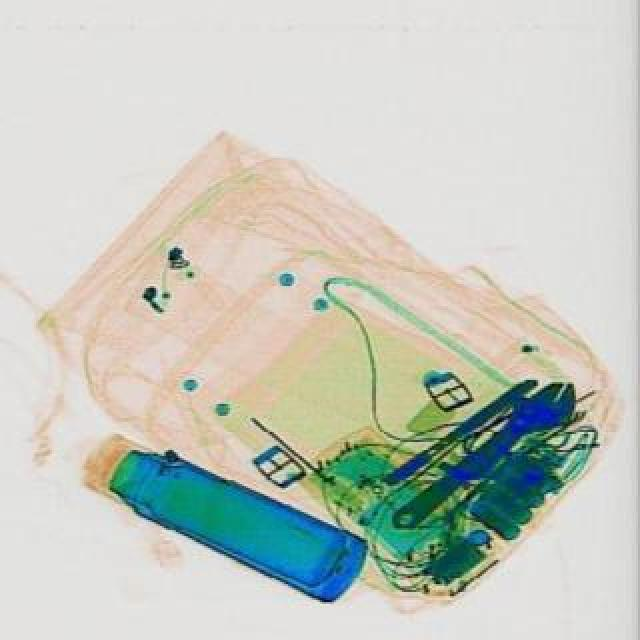scissors: (378, 370, 594, 546)
